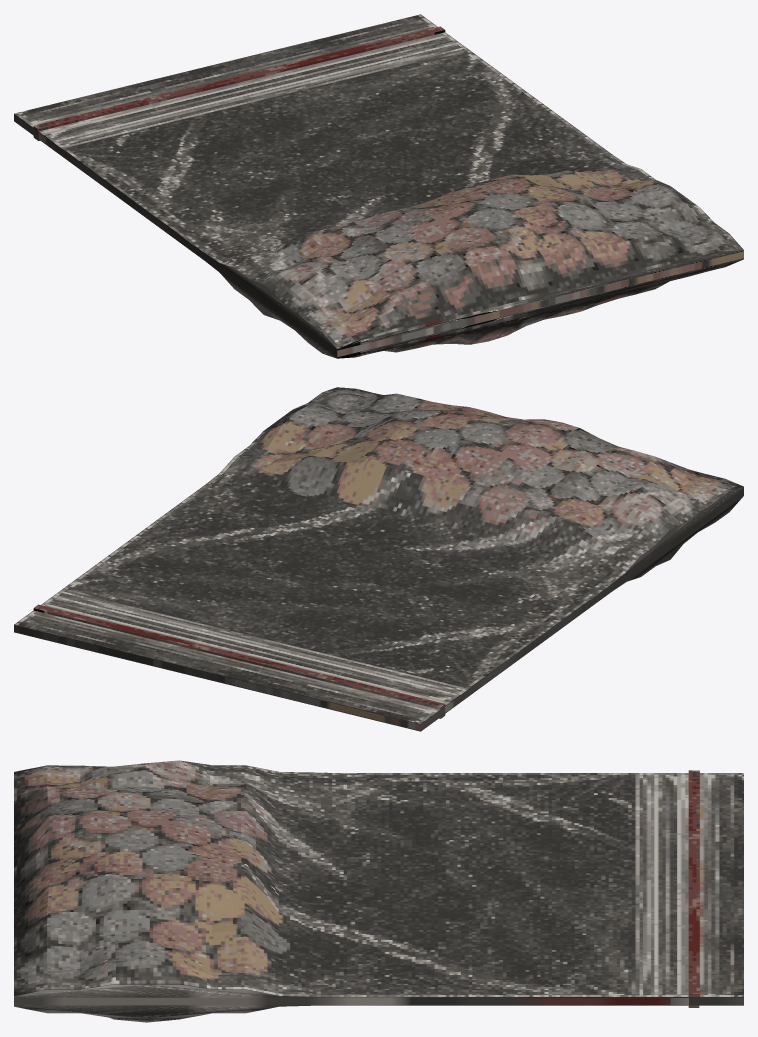
The model's file is mdma.glb.
3 renders of one model, top to bottom at view 1: azimuth 30°, elevation 25°; view 2: azimuth 150°, elevation 25°; view 3: azimuth 270°, elevation 25°, orthographic. The views are drawn at different scales.
Parts seen in each view (by area): view 1: Cube; view 2: Cube; view 3: Cube.
Boxes of the visible parts, x1,y1,x2,y2 form: Cube: (14, 14, 743, 358); Cube: (14, 387, 743, 731); Cube: (14, 760, 743, 1022).
Bounding box in the file's own units: 2.3 × 0.5016 × 3.16.
1 material, 1 textured.
